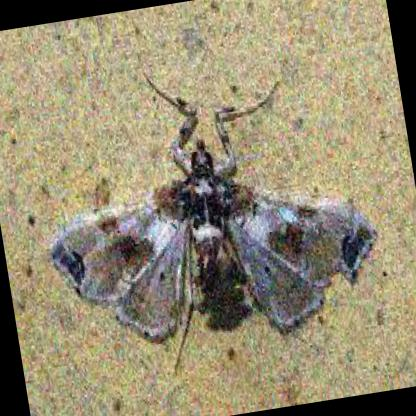leucinodes: (51, 112, 375, 346)
